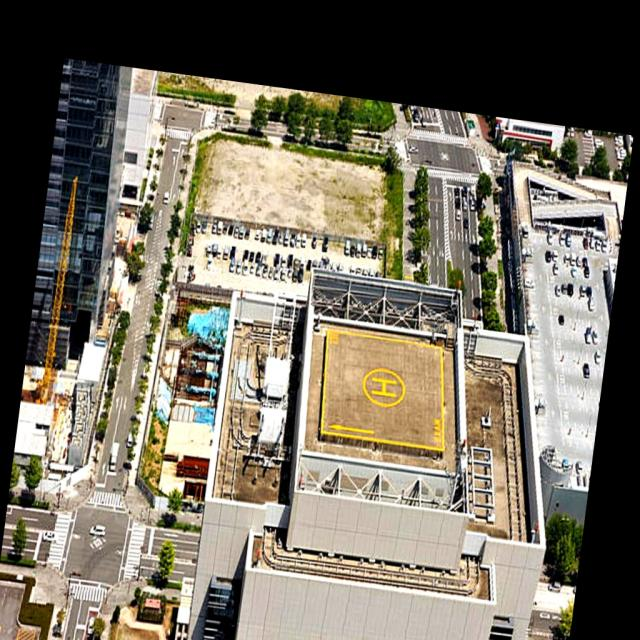helipad: (359, 366, 407, 408)
